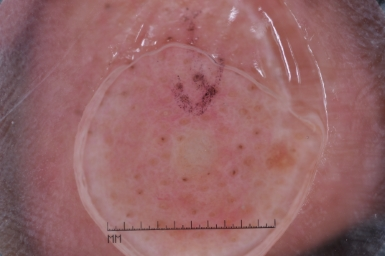seborrheic keratosis: (95, 40, 309, 212)
